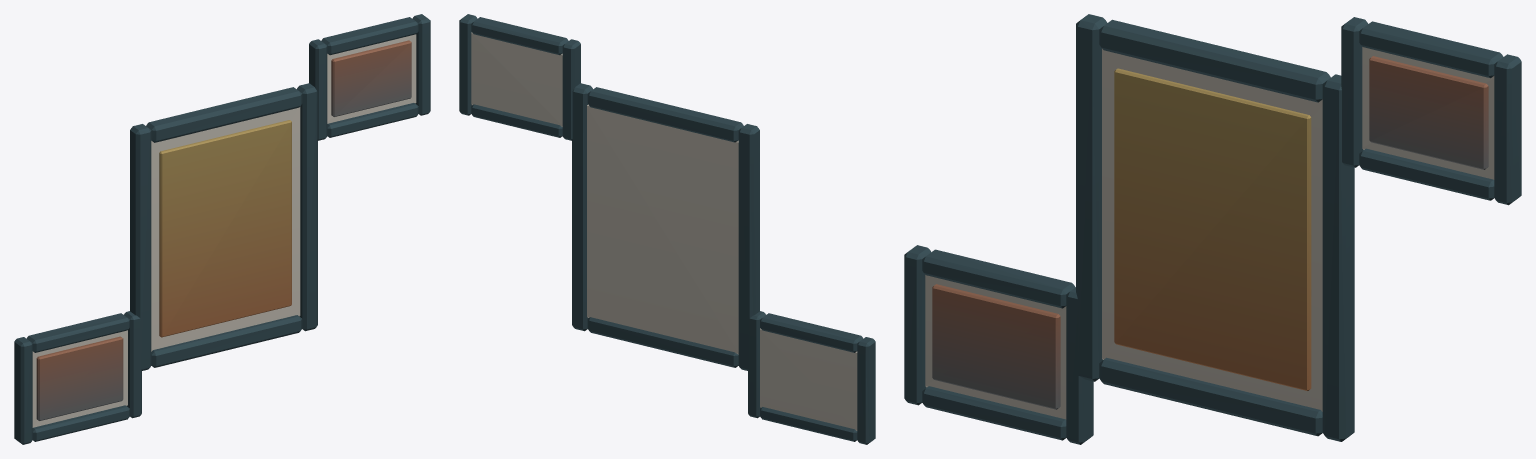
The model's file is office_wall_art.glb.
3 renders of one model, left to right at view 1: azimuth 30°, elevation 25°; view 2: azimuth 150°, elevation 25°; view 3: azimuth 330°, elevation 25°, orthographic. The views are drawn at different scales.
Visible parts, largest first — view 1: office_wall_art; view 2: office_wall_art; view 3: office_wall_art.
Part boxes in pixels (x1,y1,x2,y2): office_wall_art: (14, 14, 430, 444); office_wall_art: (459, 14, 875, 444); office_wall_art: (904, 14, 1521, 444).
Bounding box in the file's own units: 0.675 × 0.515 × 0.026.
